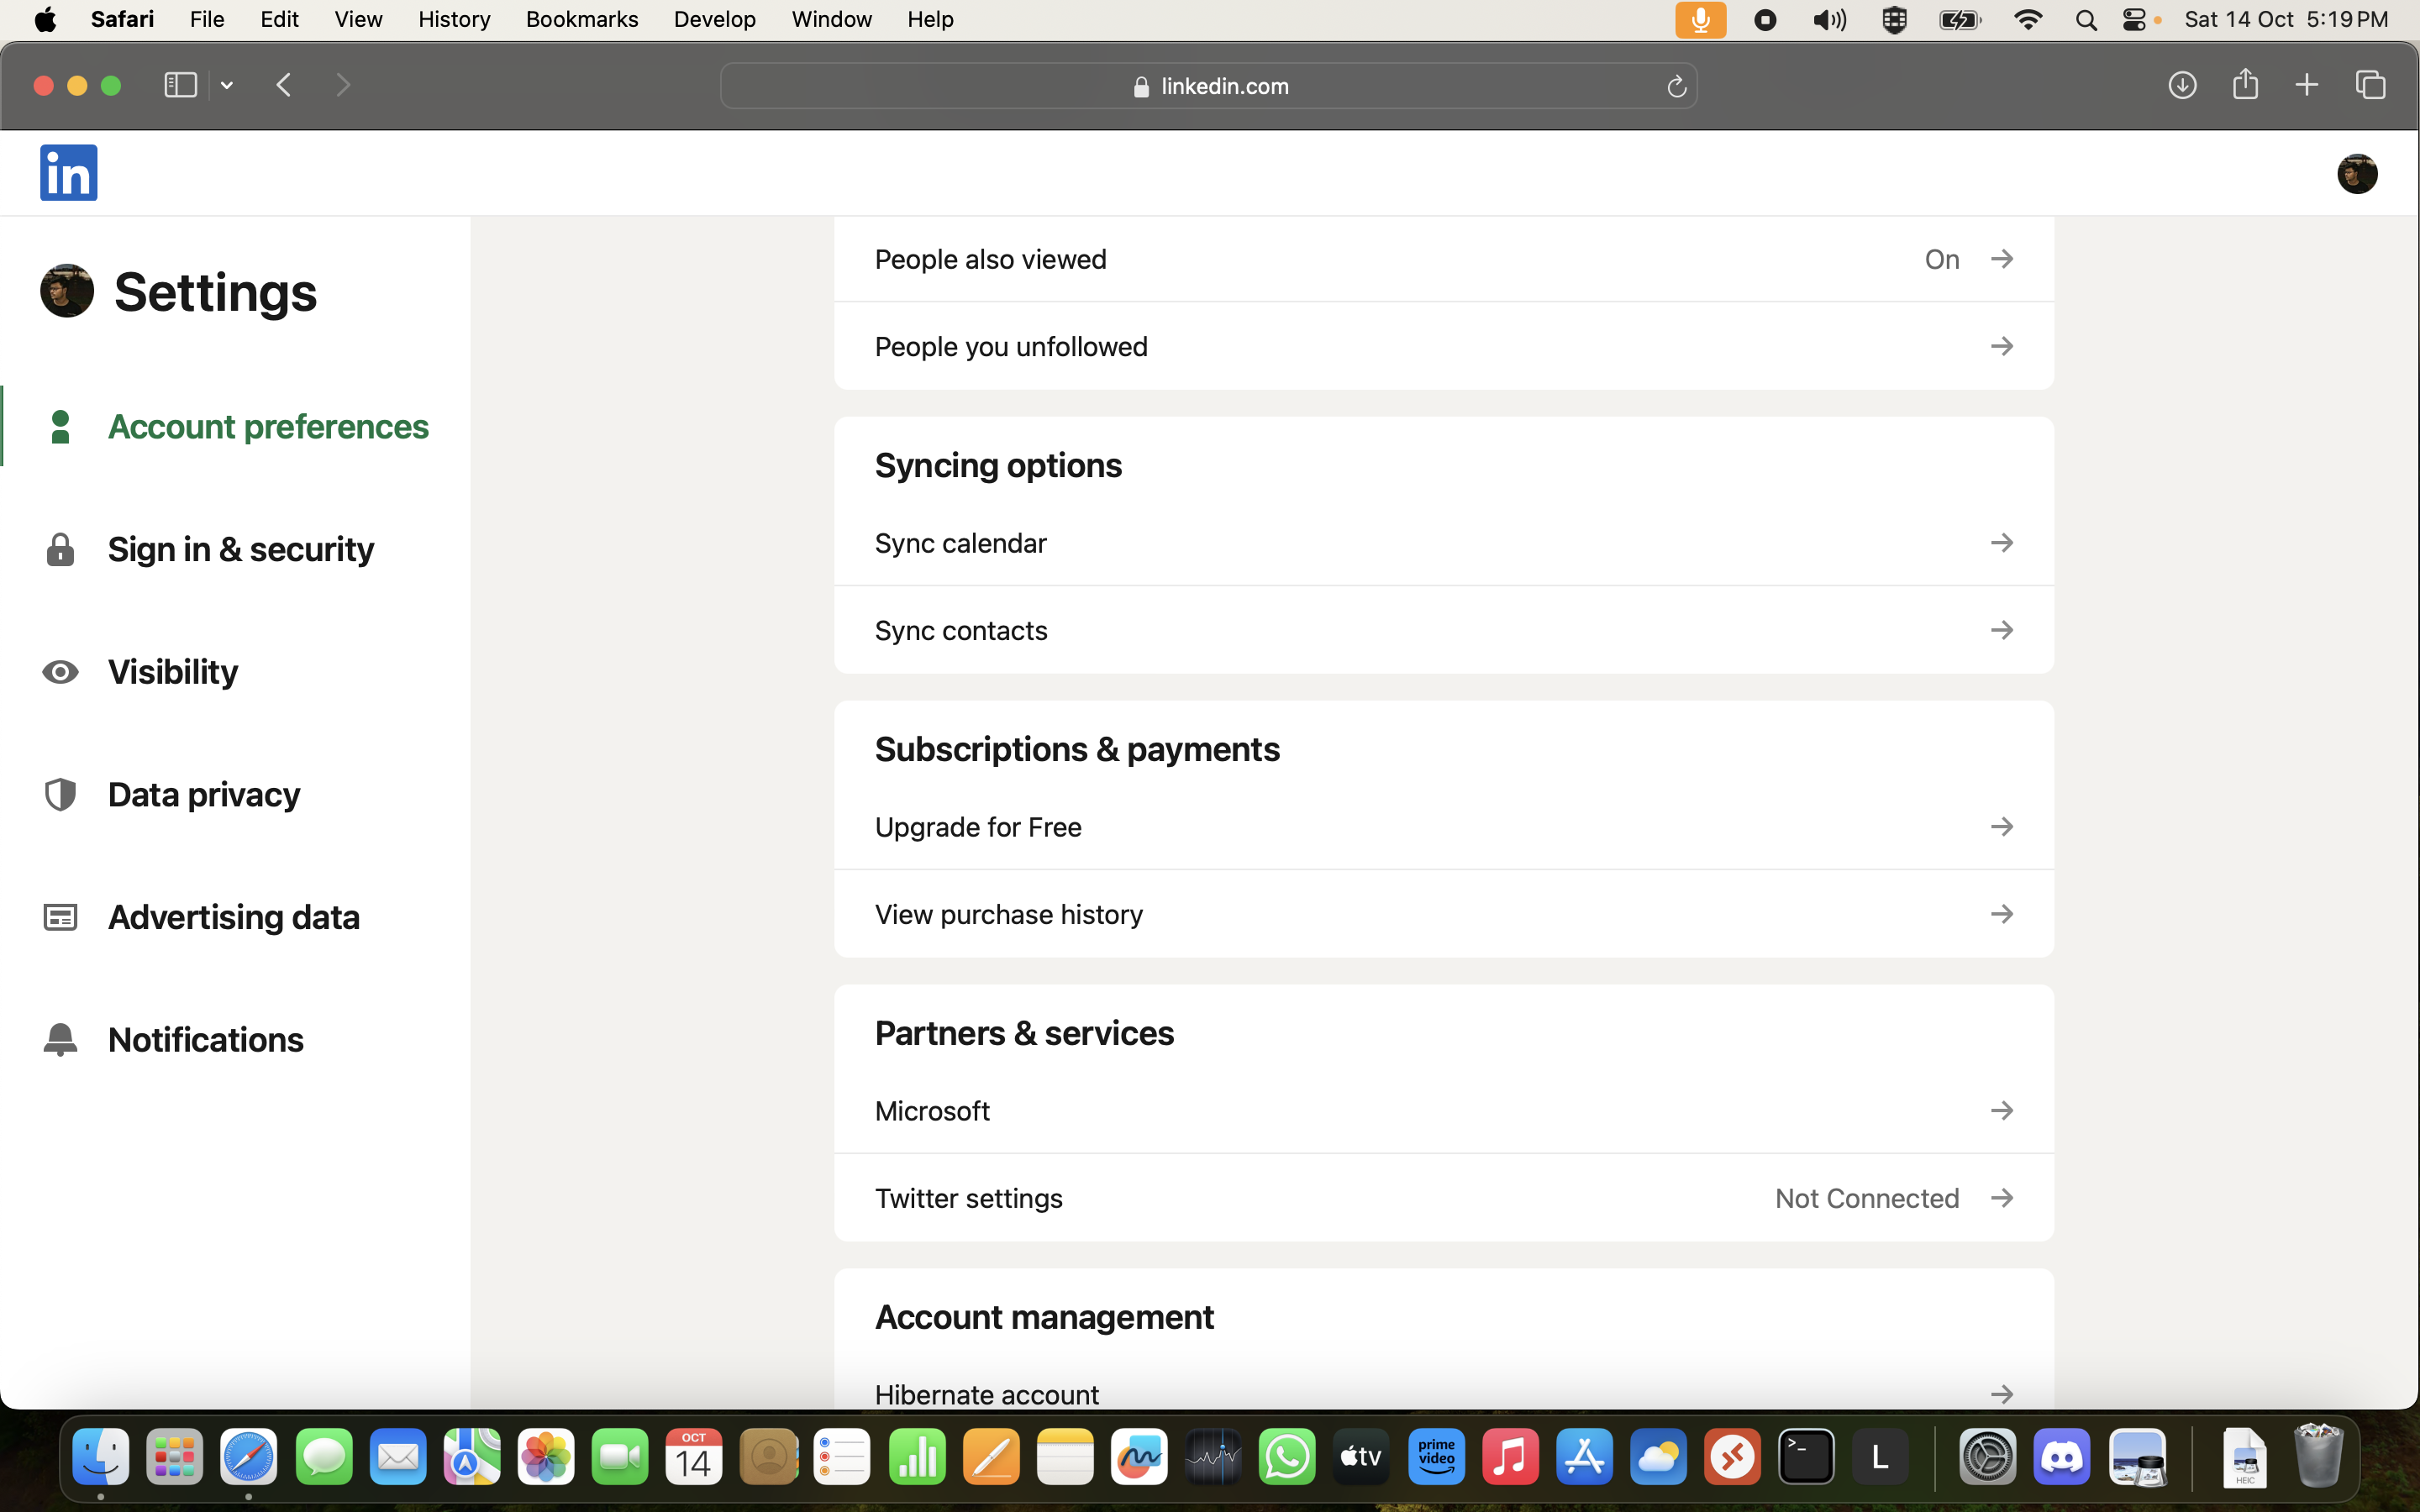Image: (21, 237, 103, 343), (31, 131, 120, 216), (14, 510, 103, 594), (28, 375, 89, 460), (28, 754, 99, 826), (24, 881, 89, 946), (35, 1005, 92, 1077), (24, 645, 85, 705), (2329, 148, 2390, 206)
Paragraph: (857, 730, 1300, 779), (85, 514, 404, 573), (875, 1289, 1221, 1341), (854, 315, 1159, 375), (78, 404, 453, 449), (868, 223, 1129, 284), (106, 1005, 315, 1077), (868, 1016, 1197, 1059), (1753, 1172, 1979, 1235), (103, 761, 319, 826), (868, 435, 1148, 484), (89, 892, 375, 939), (864, 892, 1155, 935), (854, 606, 1073, 662), (868, 1172, 1091, 1225), (120, 261, 333, 312), (850, 521, 1045, 570), (106, 638, 247, 700), (871, 810, 1087, 847), (864, 1087, 1012, 1134), (1904, 237, 1972, 284)
